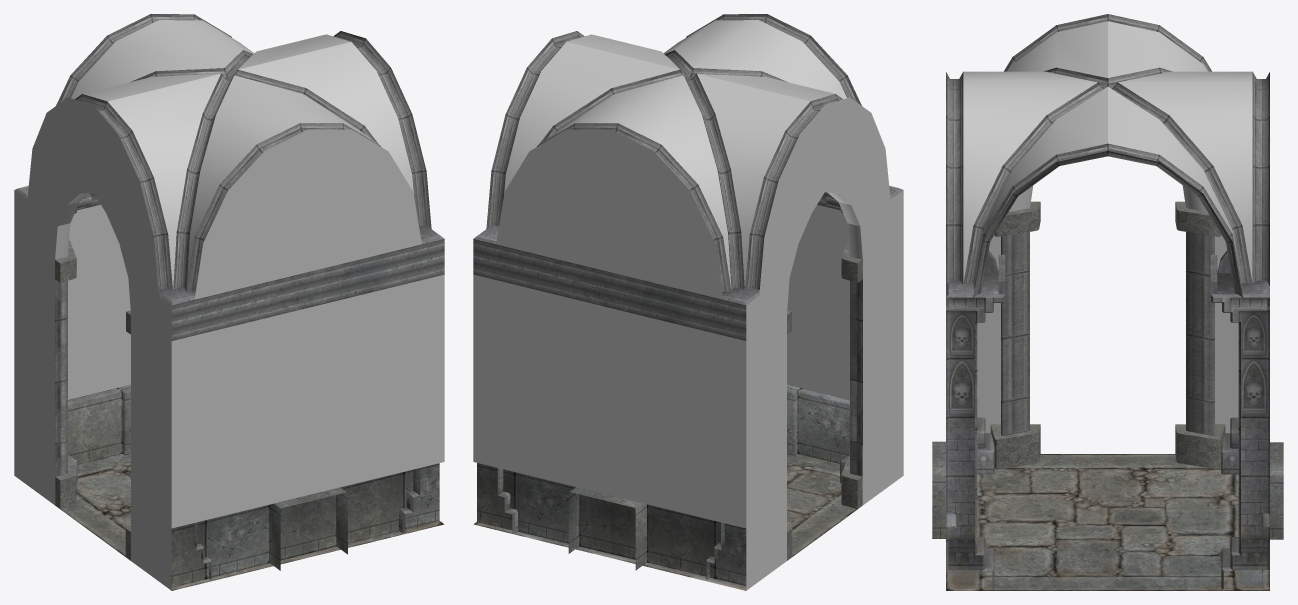
File: closed_tunnelDoorway.FBX
3 views of the same model, side by side, from view 1: azimuth 30°, elevation 25°; view 2: azimuth 150°, elevation 25°; view 3: azimuth 270°, elevation 25° (orthographic). The views are drawn at different scales.
Visible parts, largest first — view 1: closed_tunnelDoorway; view 2: closed_tunnelDoorway; view 3: closed_tunnelDoorway.
Part boxes in pixels (x1=…): closed_tunnelDoorway: x1=14, y1=14, x2=444, y2=590; closed_tunnelDoorway: x1=473, y1=14, x2=903, y2=590; closed_tunnelDoorway: x1=932, y1=14, x2=1283, y2=590.
Bounding box in the file's own units: 500 × 750 × 543.
